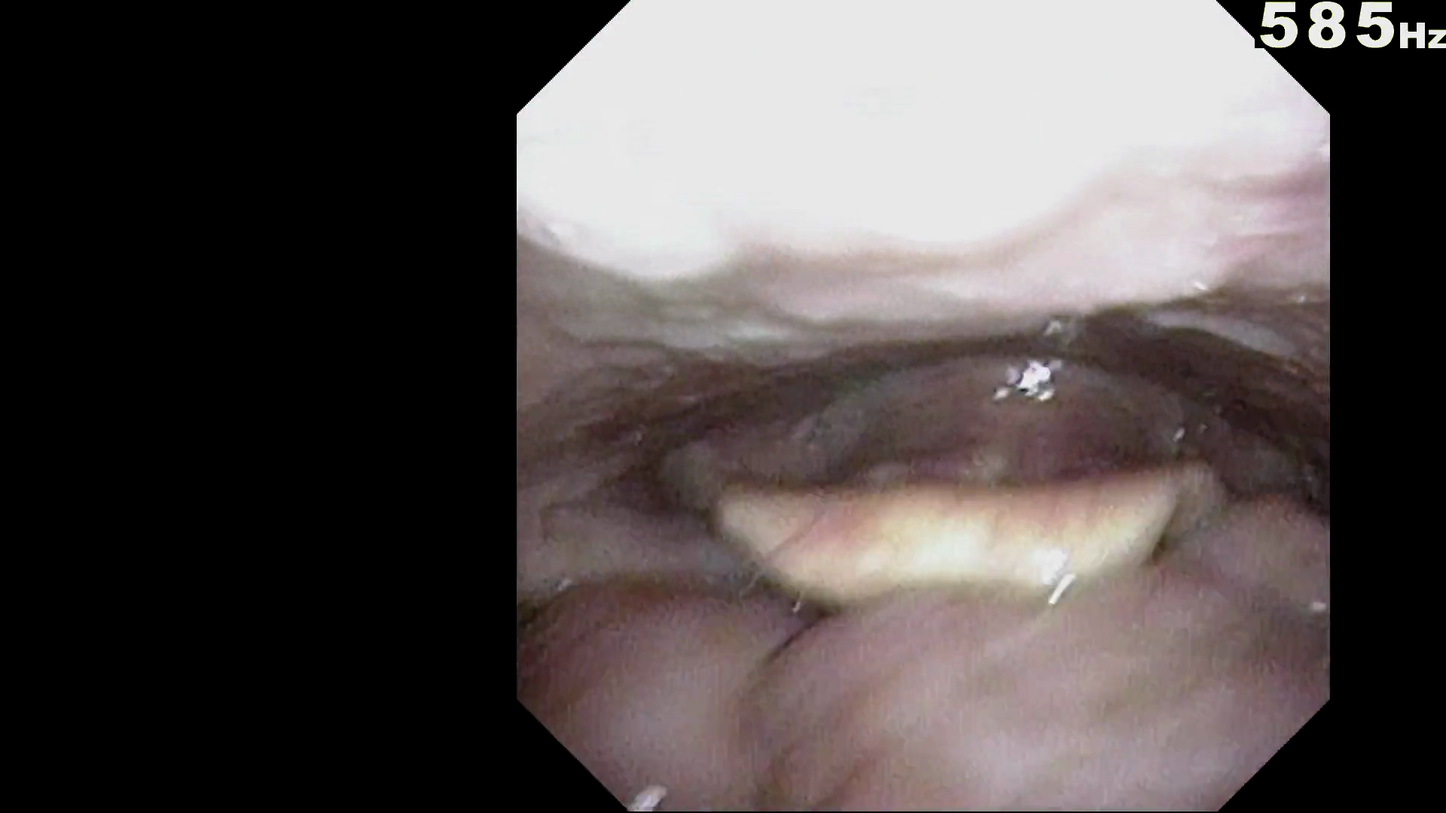epiglottis: (685, 577, 1227, 716)
trachea: (926, 533, 1054, 627)
